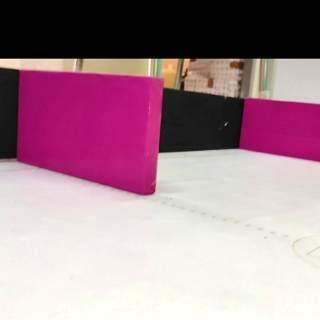xparking: (20, 78, 158, 182), (245, 104, 320, 158)
